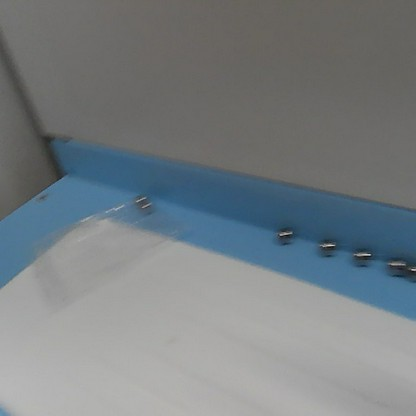ironball: (350, 243, 377, 269), (271, 223, 298, 248), (315, 233, 340, 260), (398, 255, 414, 283), (385, 251, 405, 273), (138, 199, 152, 214), (130, 192, 150, 202)
